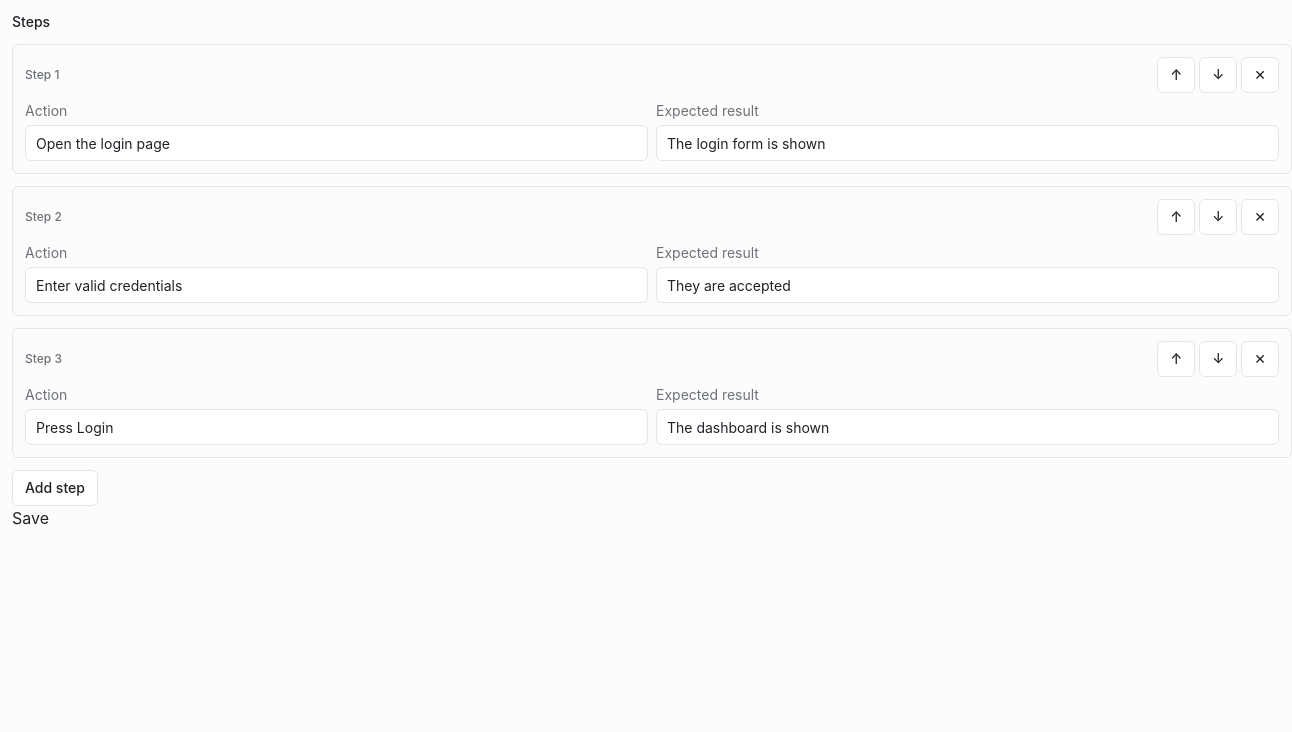
Test: TestStepEditor › removes a step and renumbers the rest
Click the button named "Remove step 2" at (1260, 217), box [1241, 199, 1279, 235]
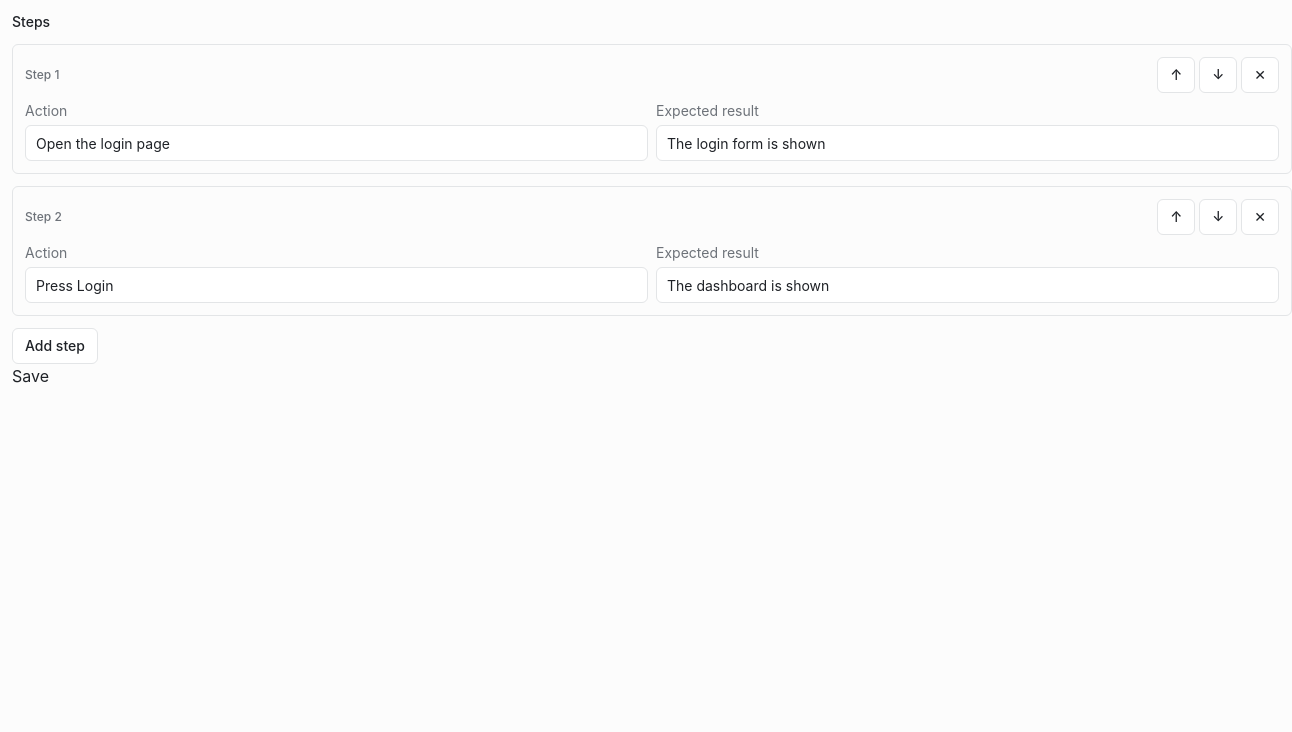
Expected: the 2nd field showing "Press Login" is shown, [25, 267, 648, 303]
Expected: the text "Step 3" is gone
